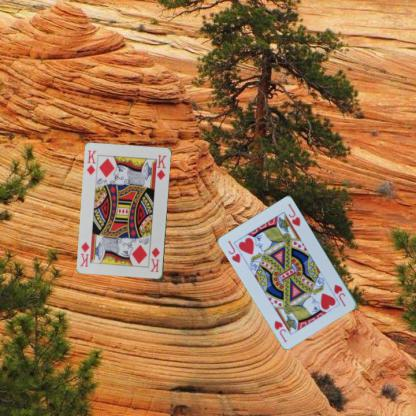Jh: (225, 238, 242, 264), (332, 282, 348, 308)
Kd: (84, 148, 98, 176), (148, 245, 161, 273)
